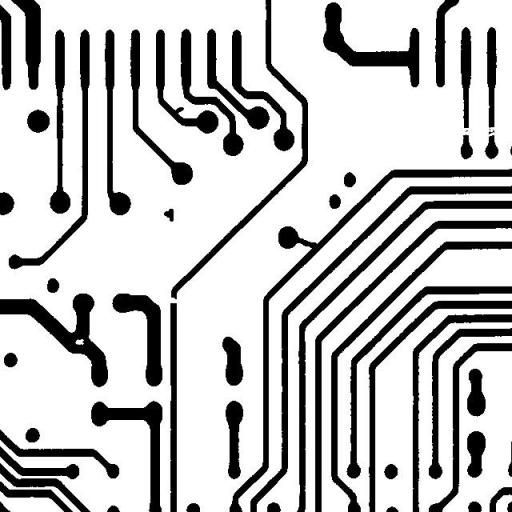copper: (156, 201, 181, 229)
open: (478, 119, 504, 144), (452, 120, 481, 142), (159, 290, 185, 310)
pin-hole: (67, 331, 91, 352)
short: (285, 228, 324, 255)
spur: (163, 100, 191, 122)
